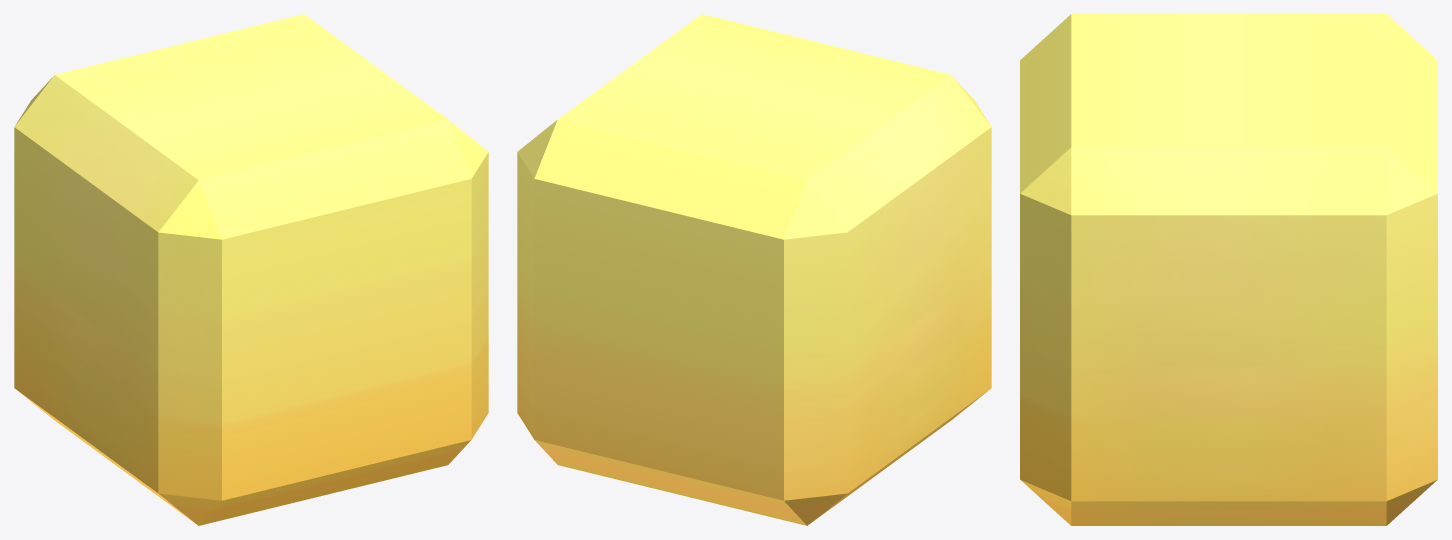
Rendered from 329855bc-cae7-4a68-b28d-581d976808a9.glb.
3 views of the same model, side by side, from view 1: azimuth 30°, elevation 25°; view 2: azimuth 150°, elevation 25°; view 3: azimuth 270°, elevation 25° (orthographic). The views are drawn at different scales.
Visible parts, largest first — view 1: CyberPunkCubeShapeA.004; view 2: CyberPunkCubeShapeA.004; view 3: CyberPunkCubeShapeA.004.
Part boxes in pixels (x1,y1,x2,y2): CyberPunkCubeShapeA.004: (14, 14, 488, 525); CyberPunkCubeShapeA.004: (517, 14, 991, 525); CyberPunkCubeShapeA.004: (1020, 14, 1437, 525).
Size of what is drawn, in the model's own units: 0.7462 by 0.7462 by 0.7462.
1 material, 1 textured.
